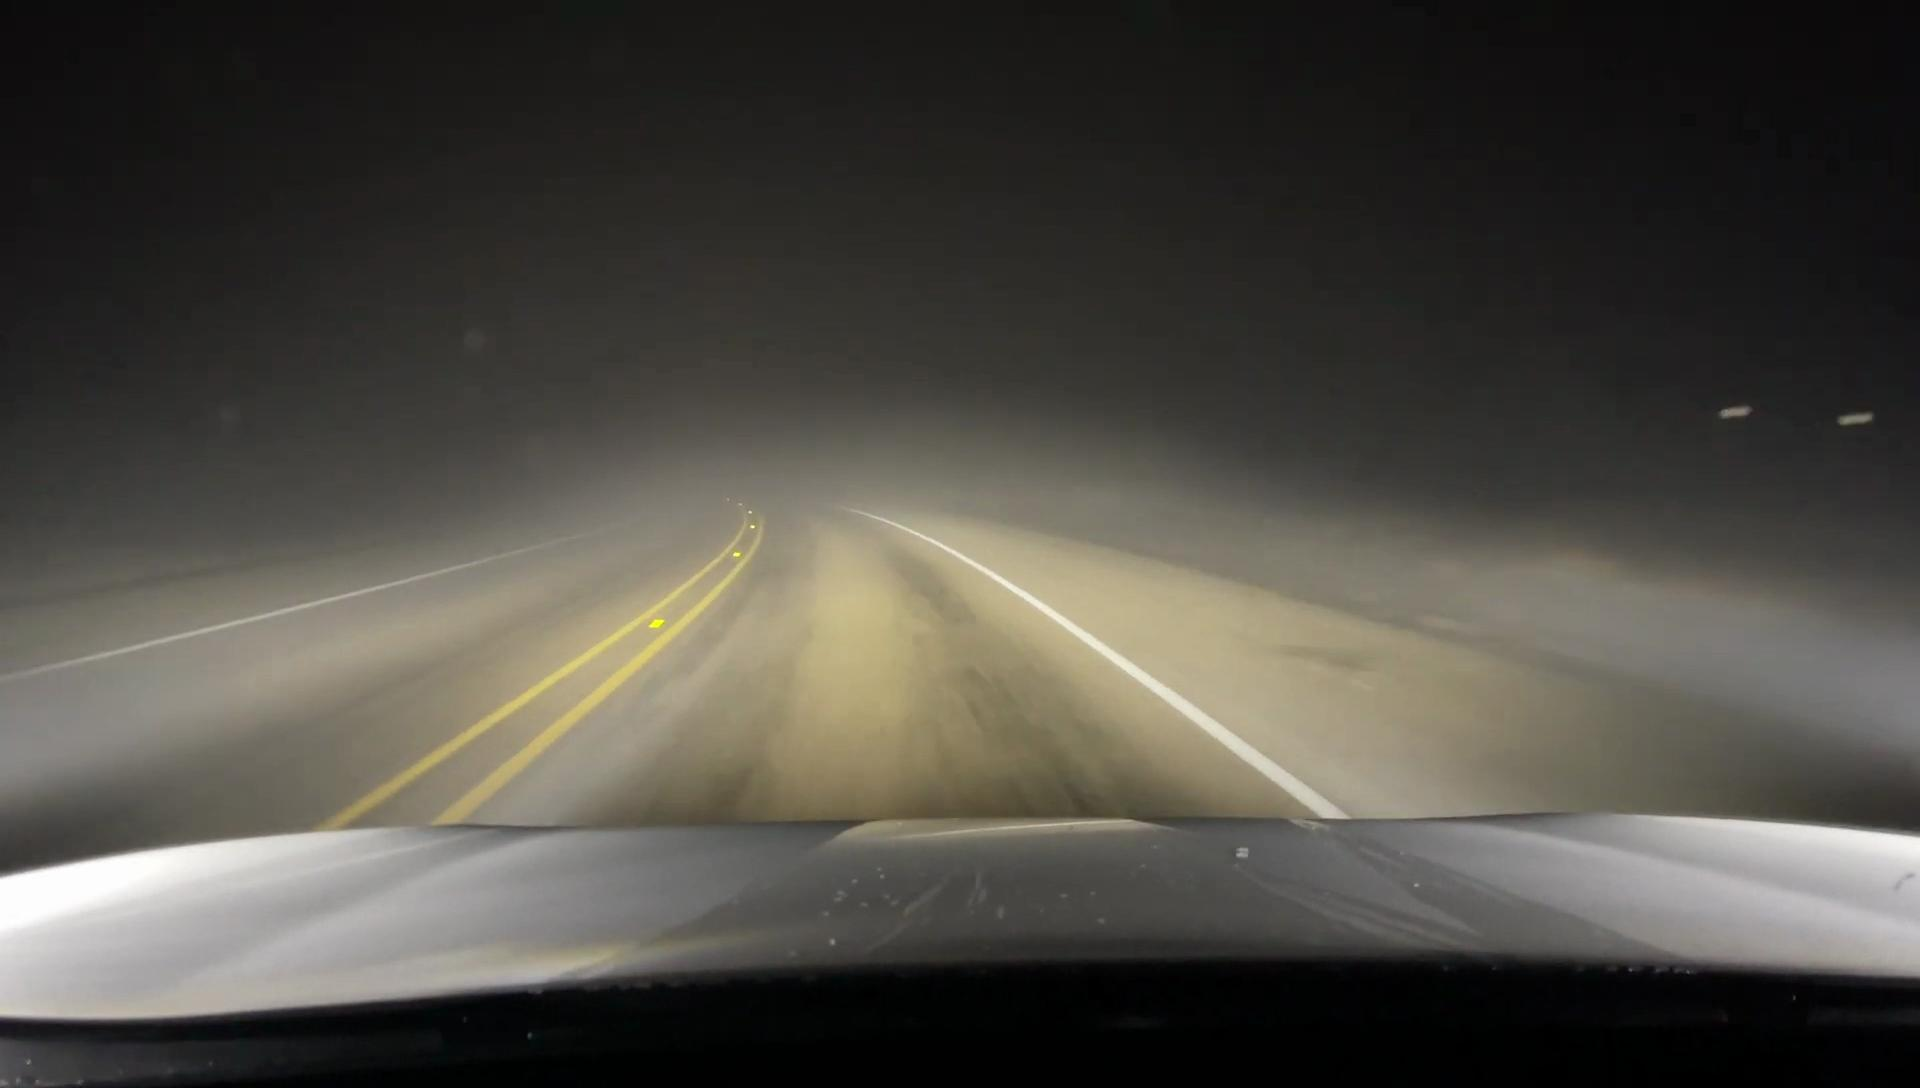road-lanes: (495, 508, 1280, 824)
